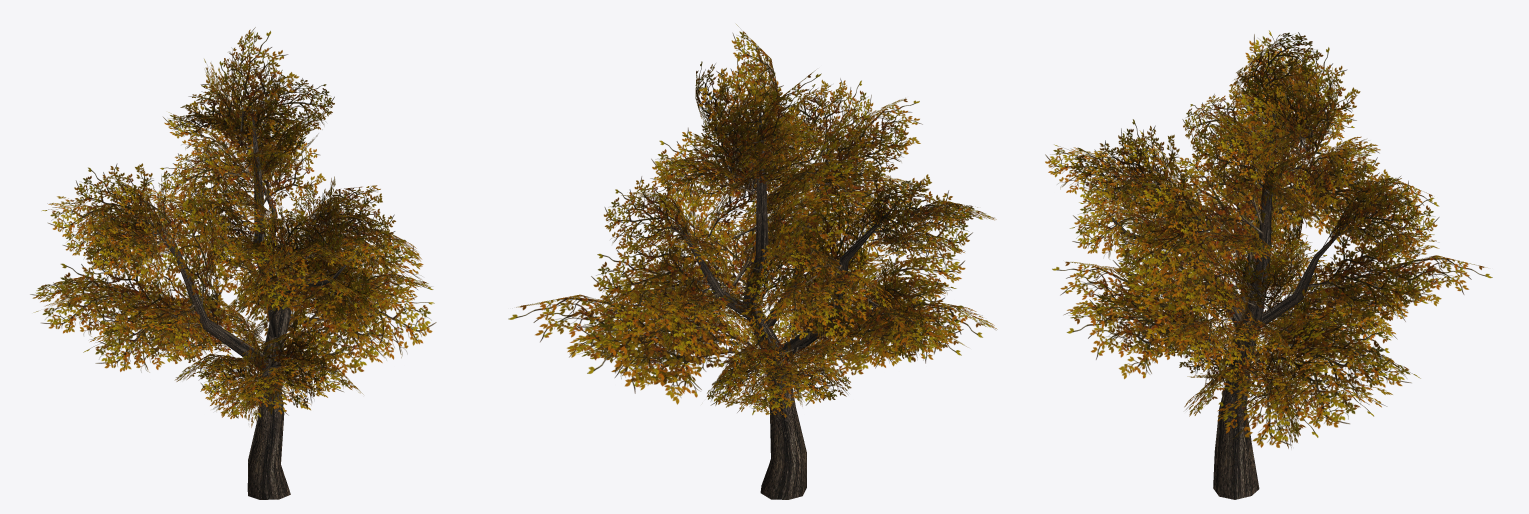
Rendered from tree905.glb.
The picture shows the model from 3 angles, left to right: view 1: azimuth 30°, elevation 25°; view 2: azimuth 150°, elevation 25°; view 3: azimuth 270°, elevation 25°; orthographic projection. The views are drawn at different scales.
Parts seen in each view (by area): view 1: tree905-col; view 2: tree905-col; view 3: tree905-col.
Part boxes in pixels (x1,y1,x2,y2): tree905-col: (30, 27, 436, 499); tree905-col: (508, 24, 997, 499); tree905-col: (1045, 30, 1492, 499).
Size of the model in its own units: 32.08 by 31.62 by 28.6.
2 materials, 2 textured.
